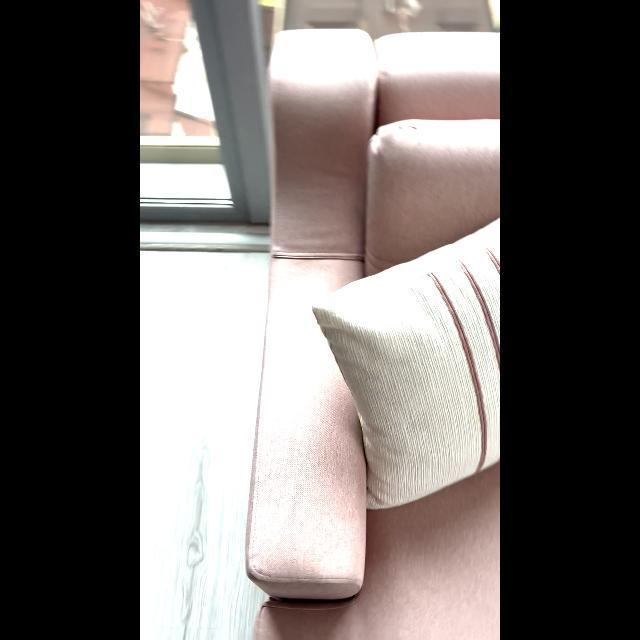throw pillow: (306, 212, 500, 524)
